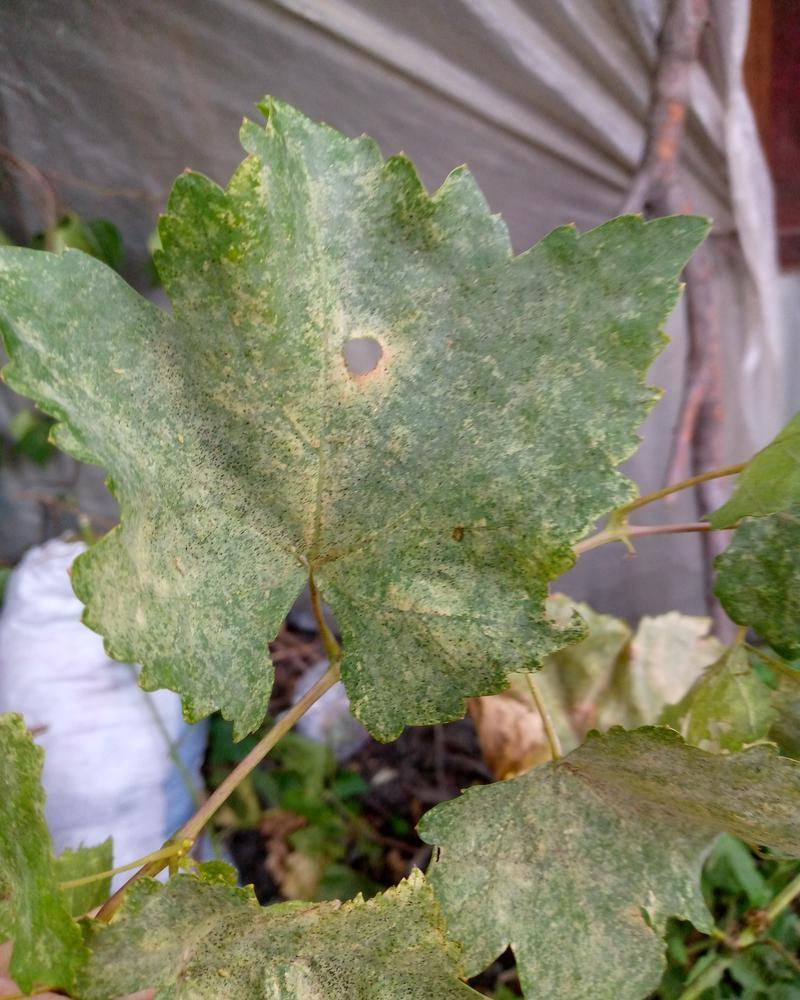Powdery-Mildew: (72, 487, 273, 710), (23, 306, 233, 487), (420, 244, 553, 491), (266, 250, 415, 467), (243, 115, 404, 281), (528, 245, 644, 420), (383, 555, 513, 670), (237, 464, 332, 612), (432, 180, 495, 243)
